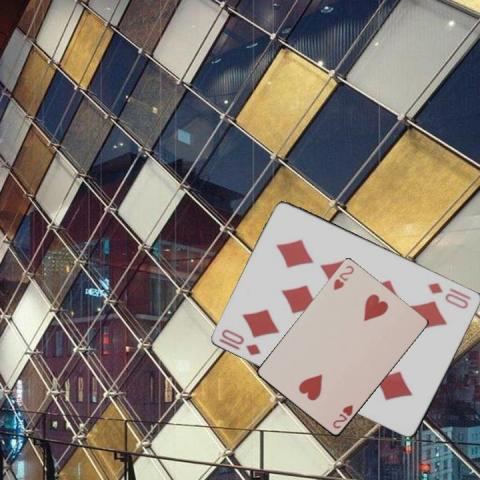10d: (425, 279, 470, 310), (219, 326, 262, 357)
2h: (330, 263, 355, 292), (330, 402, 355, 430)
